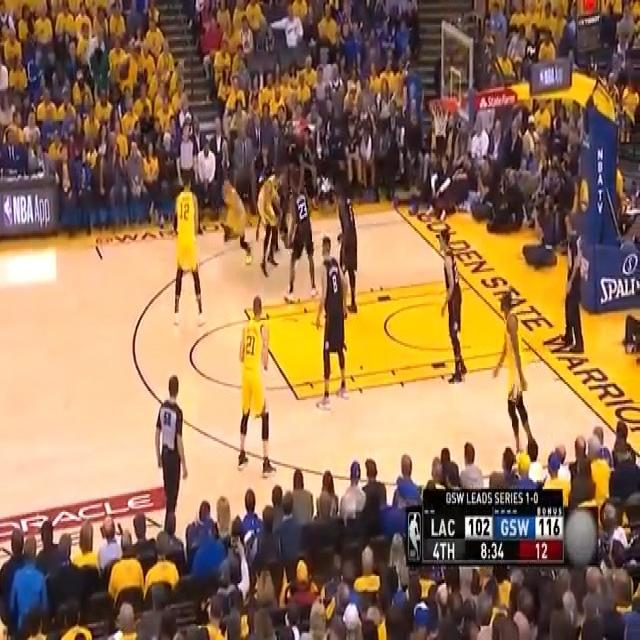hoop: (425, 90, 457, 144)
